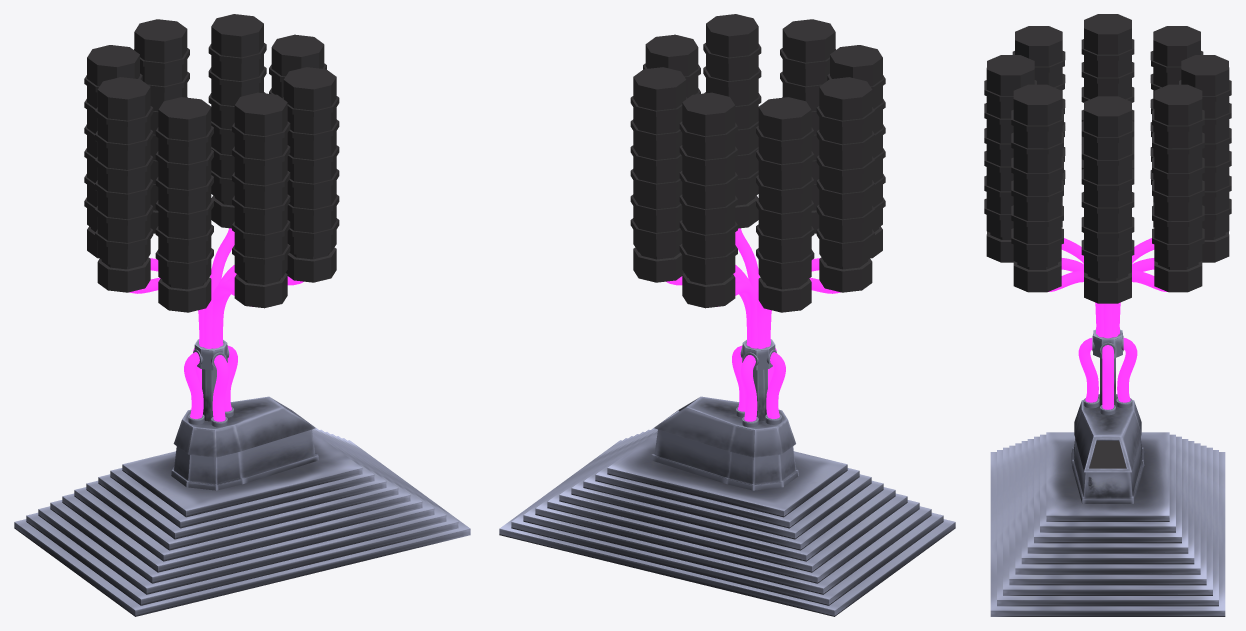
Rendered from FileMachine.fbx.
3 renders of one model, left to right at view 1: azimuth 30°, elevation 25°; view 2: azimuth 150°, elevation 25°; view 3: azimuth 270°, elevation 25°, orthographic. The views are drawn at different scales.
Parts seen in each view (by area): view 1: Cylinder.007, Cube.010, Cylinder.006, Cylinder, BezierCurve.002, BezierCurve.005, BezierCurve.006; view 2: Cylinder.007, Cube.010, Cylinder.006, Cylinder, BezierCurve.002, BezierCurve.005, BezierCurve.007; view 3: Cylinder.007, Cube.010, Cylinder.006, Cylinder, BezierCurve.005, BezierCurve.002, BezierCurve.006, BezierCurve.007.
Boxes of the visible parts, left/top/right/bottom form: Cylinder.007: left=84, top=14, right=339, bottom=312; Cube.010: left=14, top=428, right=470, bottom=616; Cylinder.006: left=95, top=34, right=326, bottom=292; Cylinder: left=171, top=339, right=318, bottom=490; BezierCurve.002: left=129, top=265, right=237, bottom=418; BezierCurve.005: left=193, top=281, right=234, bottom=421; BezierCurve.006: left=203, top=228, right=234, bottom=348; Cylinder.007: left=630, top=14, right=885, bottom=312; Cube.010: left=499, top=428, right=955, bottom=616; Cylinder.006: left=643, top=34, right=874, bottom=292; Cylinder: left=651, top=339, right=798, bottom=490; BezierCurve.002: left=732, top=265, right=840, bottom=418; BezierCurve.005: left=735, top=281, right=776, bottom=421; BezierCurve.007: left=735, top=228, right=766, bottom=348; Cylinder.007: left=984, top=26, right=1231, bottom=292; Cube.010: left=990, top=432, right=1225, bottom=616; Cylinder.006: left=1081, top=14, right=1134, bottom=303; Cylinder: left=1071, top=329, right=1144, bottom=503; BezierCurve.005: left=1061, top=258, right=1154, bottom=402; BezierCurve.002: left=1102, top=303, right=1113, bottom=409; BezierCurve.006: left=1061, top=238, right=1166, bottom=337; BezierCurve.007: left=1049, top=238, right=1154, bottom=337.
Size of the model in its own units: 3200 by 4310 by 2109.
